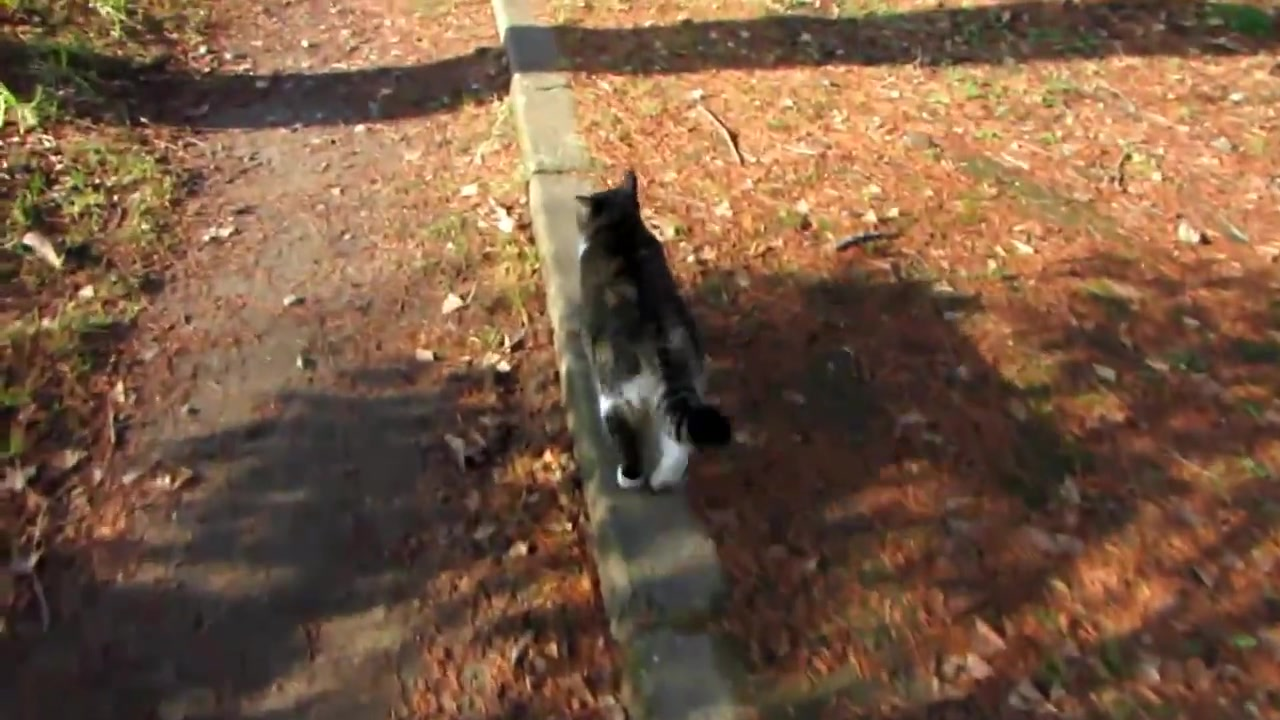cat: (574, 169, 737, 497)
